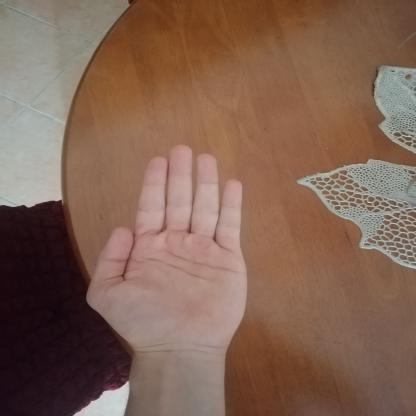SEEN: (68, 131, 266, 370)
